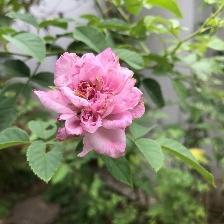rose: (33, 47, 149, 160)
